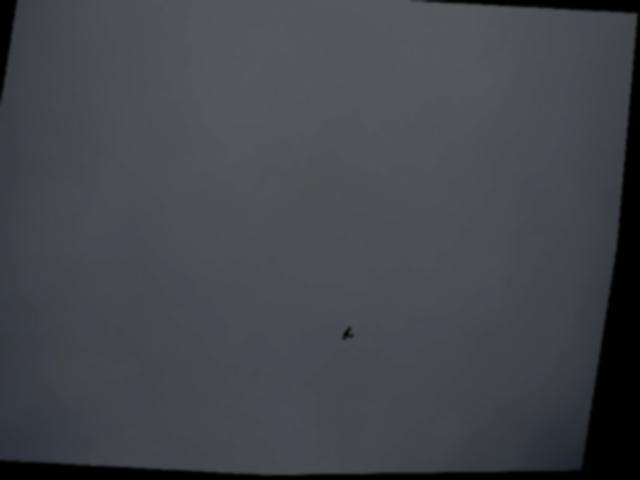plane: (344, 326, 361, 343)
